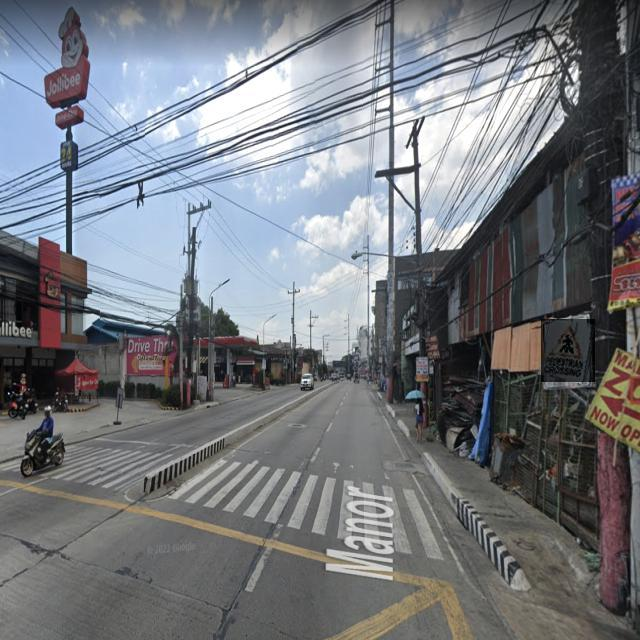pedestrian crossing: (541, 319, 595, 382)
